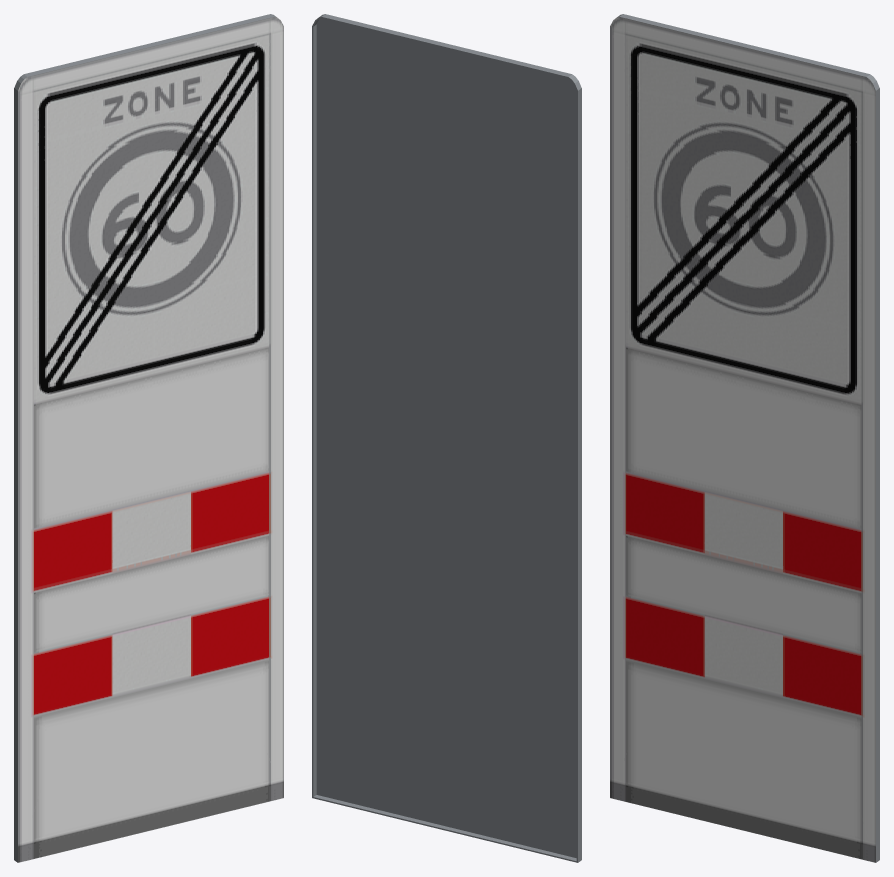
3 renders of one model, left to right at view 1: azimuth 30°, elevation 25°; view 2: azimuth 150°, elevation 25°; view 3: azimuth 330°, elevation 25°, orthographic.
Parts seen in each view (by area): view 1: cat_e857bc03b1eedbbd; view 2: cat_e857bc03b1eedbbd; view 3: cat_e857bc03b1eedbbd.
Boxes of the visible parts, x1,y1,x2,y2 form: cat_e857bc03b1eedbbd: [14, 14, 283, 862]; cat_e857bc03b1eedbbd: [312, 14, 581, 862]; cat_e857bc03b1eedbbd: [610, 14, 879, 862].
Bounding box in the file's own units: 0.6 × 0.015 × 1.69.
Materials: 2 (1 with a texture image).
